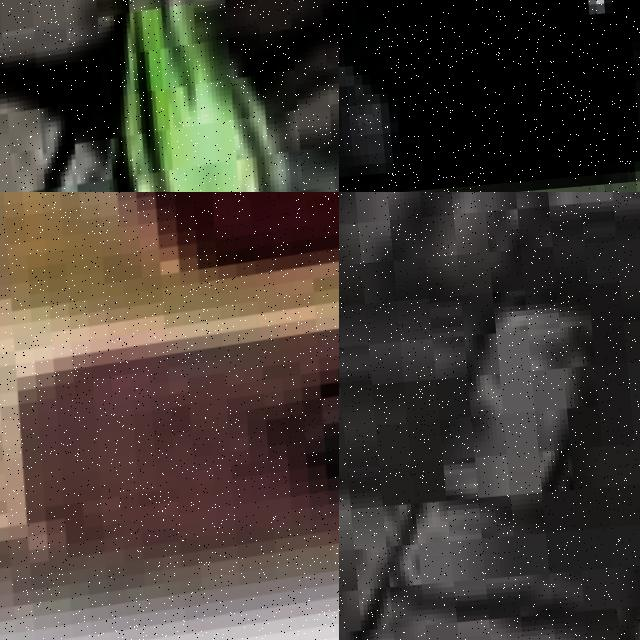0: (0, 0, 339, 192)
drone: (0, 192, 339, 640)
